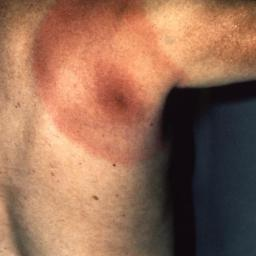nails: (34, 26, 166, 156)
